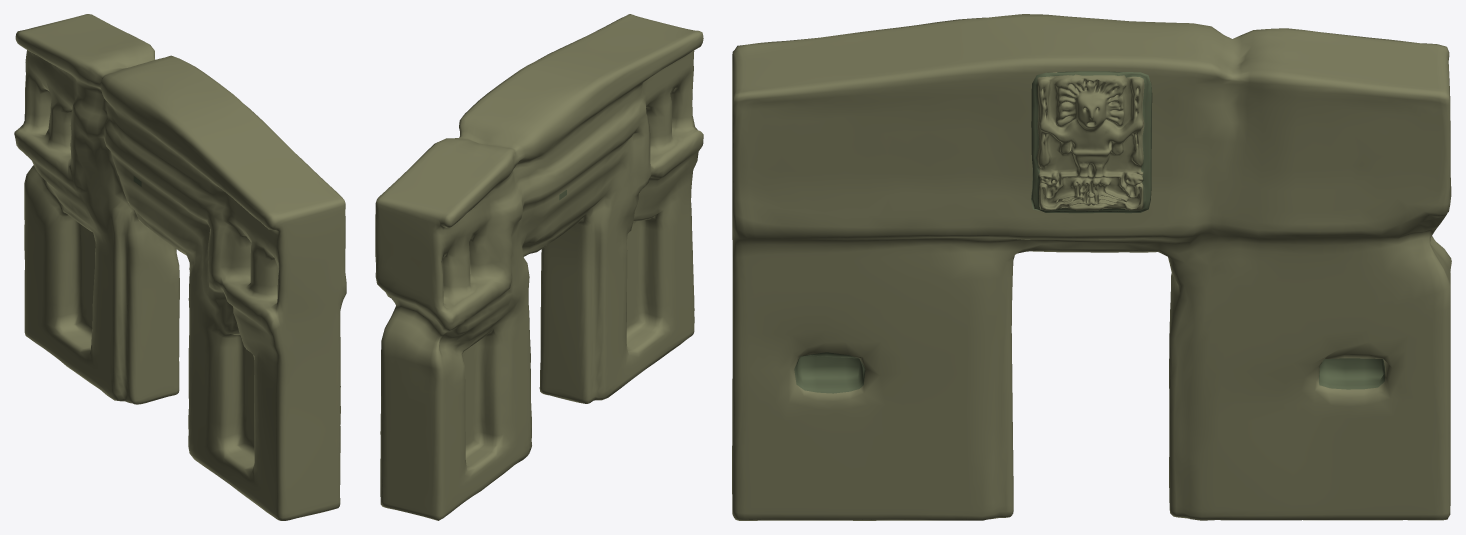
Rendered from sun_gate.fbx.
The picture shows the model from 3 angles, left to right: view 1: azimuth 30°, elevation 25°; view 2: azimuth 150°, elevation 25°; view 3: azimuth 270°, elevation 25°; orthographic projection. The views are drawn at different scales.
Visible parts, largest first — view 1: sun_gate; view 2: sun_gate; view 3: sun_gate.
Boxes of the visible parts, box(x1,y1,x2,y2) form: sun_gate: box(14, 14, 346, 520); sun_gate: box(375, 14, 703, 520); sun_gate: box(732, 14, 1451, 520).
Size of the model in its own units: 1.85 by 6.19 by 8.68.
